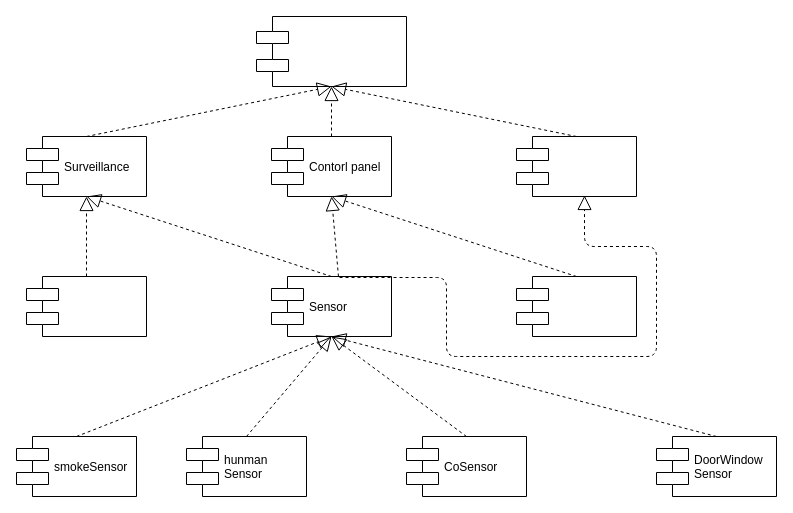
Some shapes in this 793 by 513 pixel diagram are drawn without their labels. Here are the shapes that lost their labels. From the top down, the centre of each, then its label:
At point 331,51: "safehomeSystem".
At point 576,166: "Event detect".
At point 86,306: "monitor".
At point 576,306: "Visual interfave".
